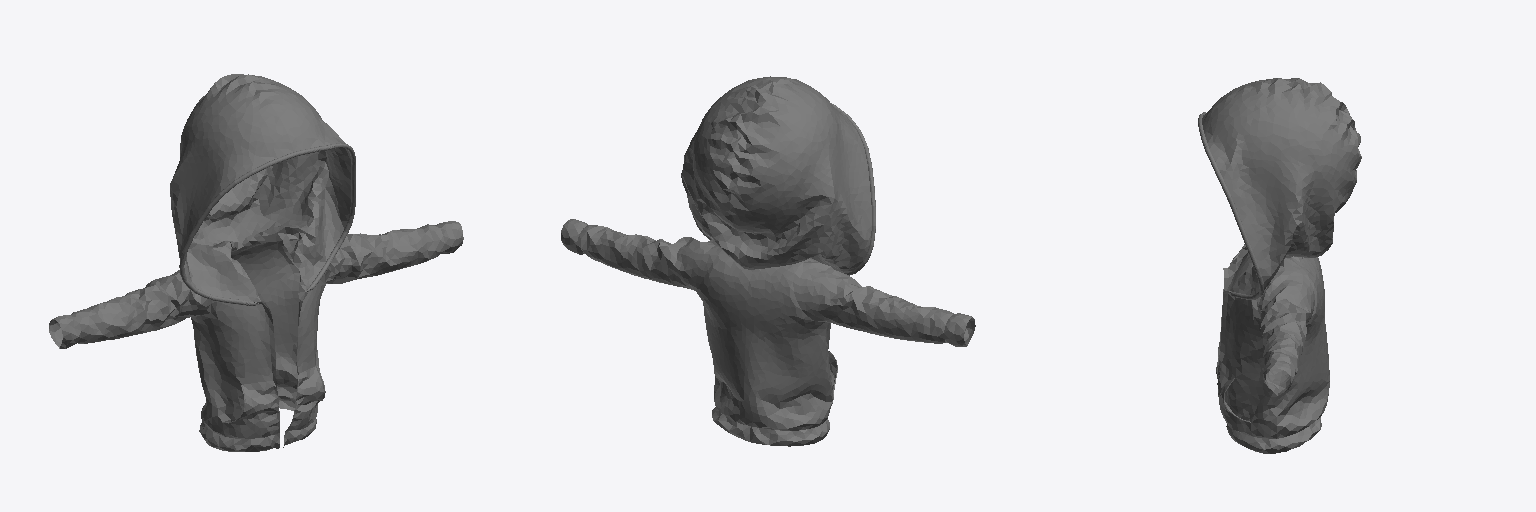
Rendered from HoodieOB.obj.
3 renders of one model, left to right at view 1: azimuth 30°, elevation 25°; view 2: azimuth 150°, elevation 25°; view 3: azimuth 270°, elevation 25°, orthographic.
Parts seen in each view (by area): view 1: g ClothesOB:Mesh_ClothesOB:Mesh; view 2: g ClothesOB:Mesh_ClothesOB:Mesh; view 3: g ClothesOB:Mesh_ClothesOB:Mesh.
Part boxes in pixels (x1,y1,x2,y2): g ClothesOB:Mesh_ClothesOB:Mesh: (49, 74, 463, 451); g ClothesOB:Mesh_ClothesOB:Mesh: (561, 76, 975, 446); g ClothesOB:Mesh_ClothesOB:Mesh: (1198, 78, 1361, 453).
Size of the model in its own units: 93.16 by 77.23 by 32.76.